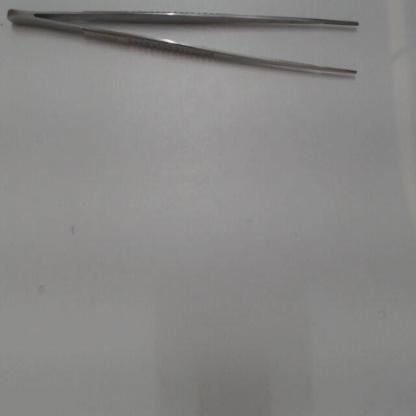DeBakey Dissector: (4, 3, 374, 102)
